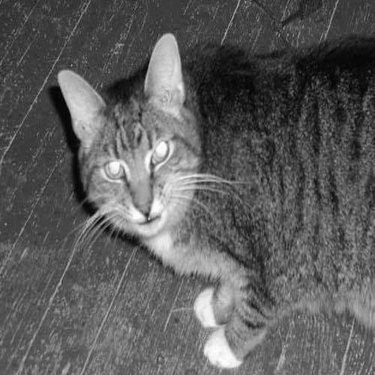cat: (55, 33, 373, 368)
